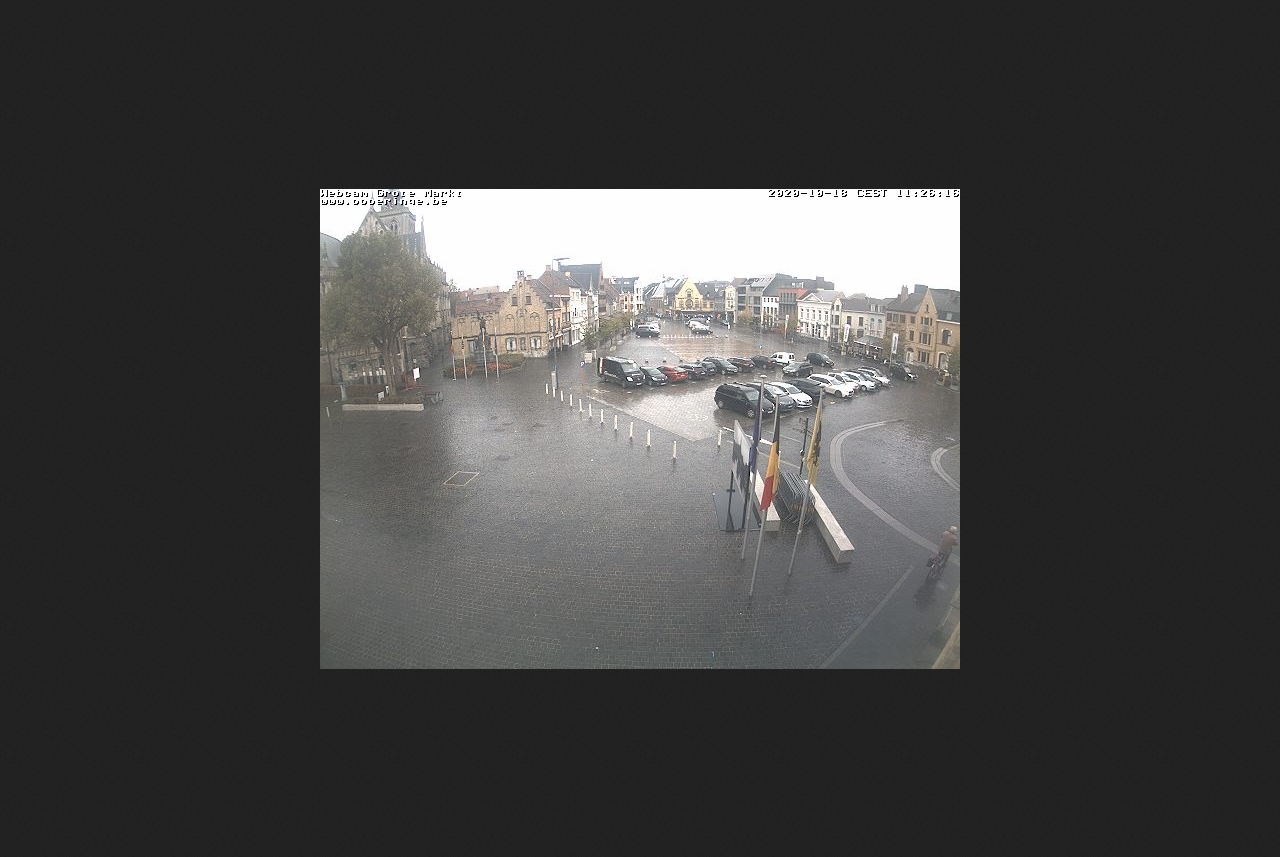no: (762, 409, 783, 512), (807, 395, 823, 486), (752, 401, 762, 484)
